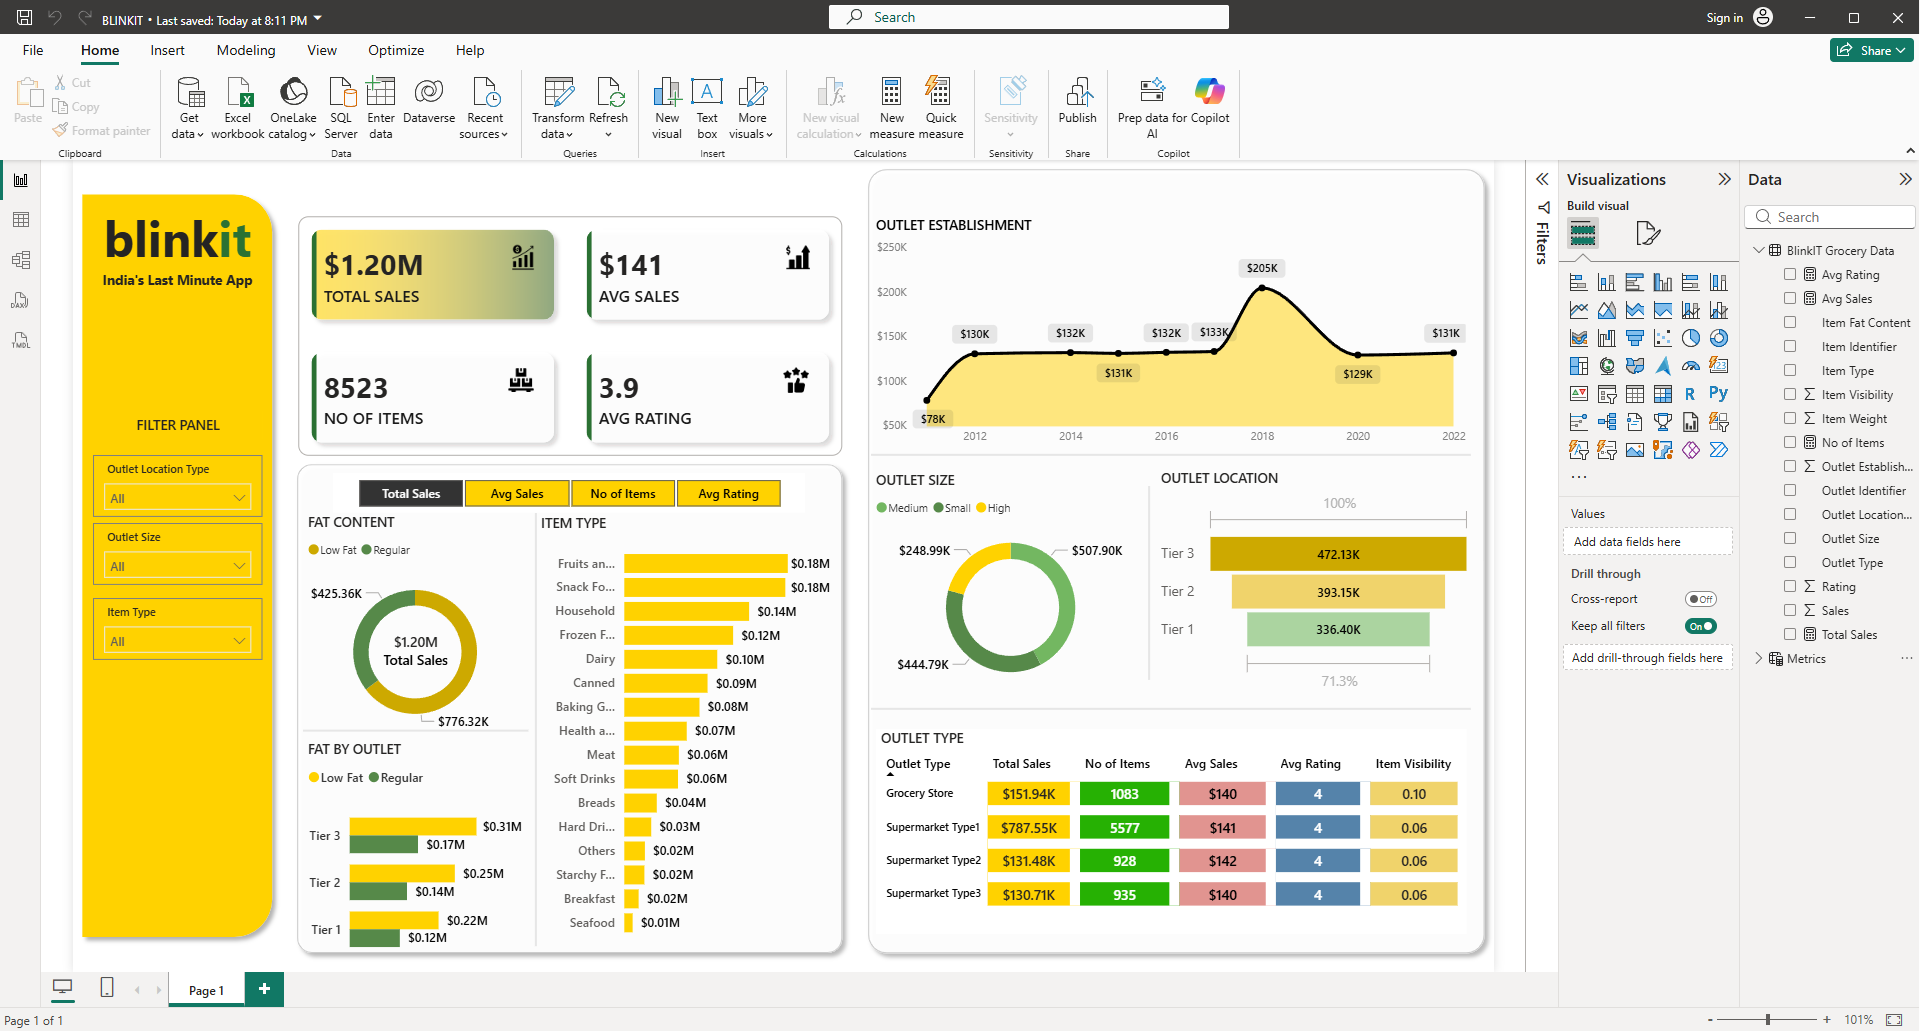

What the dashboard file says about the page in this screenshot:
{"tool":"powerbi","page":{"name":"Page 1","canvas":[1400,800],"ordinal":0},"visuals":[{"type":"shape","box":[0,24.5,205.3,750],"z":0},{"type":"textbox","box":[17,38.3,172.3,80.9],"z":1000},{"type":"textbox","box":[17,104.3,172.3,28.7],"z":2000},{"type":"cardVisual","fields":{"Data":["BlinkIT Grocery Data.Total Sales","BlinkIT Grocery Data.Avg Sales","BlinkIT Grocery Data.No of Items","BlinkIT Grocery Data.Avg Rating"]},"box":[205,38.3,570.2,270.2],"z":3000},{"type":"textbox","box":[205,308,570,466],"z":4000},{"type":"shape","box":[212.2,291.1,555.1,499.6],"z":5000},{"type":"donutChart","title":"FAT CONTENT","fields":{"Y":["BlinkIT Grocery Data.Total Sales"],"Category":["BlinkIT Grocery Data.Item Fat Content"]},"box":[227,347.8,220.8,229.4],"z":6000},{"type":"slicer","fields":{"Values":["Metrics.Metrics"]},"box":[256.6,308.4,465,39.5],"z":7000},{"type":"cardVisual","fields":{"Data":["BlinkIT Grocery Data.Total Sales"]},"box":[267.7,449,139.4,67.8],"z":8000},{"type":"clusteredBarChart","title":"FAT BY OUTLET","fields":{"Y":["BlinkIT Grocery Data.Total Sales"],"Category":["BlinkIT Grocery Data.Outlet Location Type"],"Series":["BlinkIT Grocery Data.Item Fat Content"]},"box":[227,571.1,220.8,229.4],"z":9000},{"type":"shape","box":[227,546.4,222,30.8],"z":10000},{"type":"shape","box":[449,347.8,13.6,426.8],"z":11000},{"type":"barChart","title":"ITEM TYPE","fields":{"Y":["BlinkIT Grocery Data.Total Sales"],"Category":["BlinkIT Grocery Data.Item Type"]},"box":[456.4,349.1,294.8,426.8],"z":12000},{"type":"shape","box":[774.6,0,625.4,790.7],"z":13000},{"type":"lineChart","title":"OUTLET ESTABLISHMENT","fields":{"Y":["BlinkIT Grocery Data.Total Sales"],"Category":["BlinkIT Grocery Data.Outlet Establishment Year"]},"box":[786.5,54.8,590.9,235.3],"z":14000},{"type":"shape","box":[786.5,275.1,590.9,31.2],"z":15000},{"type":"donutChart","title":"OUTLET SIZE","fields":{"Y":["BlinkIT Grocery Data.Total Sales"],"Category":["BlinkIT Grocery Data.Outlet Size"]},"box":[786.5,306.2,275.1,224.6],"z":16000},{"type":"shape","box":[1053,321.3,14,191.3],"z":17000},{"type":"funnel","title":"OUTLET LOCATION","fields":{"Y":["Sum(BlinkIT Grocery Data.Sales)"],"Category":["BlinkIT Grocery Data.Outlet Location Type"]},"box":[1066.9,304.1,315.9,224.6],"z":18000},{"type":"shape","box":[786.5,525.4,590.9,31.2],"z":19000},{"type":"pivotTable","title":"OUTLET TYPE","fields":{"Rows":["BlinkIT Grocery Data.Outlet Type"],"Values":["BlinkIT Grocery Data.Total Sales","BlinkIT Grocery Data.No of Items","BlinkIT Grocery Data.Avg Sales","BlinkIT Grocery Data.Avg Rating","Avg(BlinkIT Grocery Data.Item Visibility)"]},"box":[790.8,560.9,582.3,202],"z":20000},{"type":"slicer","fields":{"Values":["BlinkIT Grocery Data.Outlet Location Type"]},"box":[19.7,290.6,167.5,61.1],"z":21000},{"type":"slicer","fields":{"Values":["BlinkIT Grocery Data.Outlet Size"]},"box":[19.7,357.6,167.5,61.1],"z":22000},{"type":"slicer","fields":{"Values":["BlinkIT Grocery Data.Item Type"]},"box":[19.7,431.5,167.5,61.1],"z":23000},{"type":"textbox","box":[19.7,247.3,167.5,27.6],"z":23001}]}

Visuals, with their boxes on the page's 1400x800 design canvas (x1, y1, x2, y2). These are canvas units, not pixel positions in the 1920x1032 screenshot, which may show the page scaled, cropped or inside an application window:
shape: [x1=0, y1=24, x2=205, y2=774]
textbox: [x1=17, y1=38, x2=189, y2=119]
textbox: [x1=17, y1=104, x2=189, y2=133]
cardVisual - BlinkIT Grocery Data.Total Sales x BlinkIT Grocery Data.Avg Sales: [x1=205, y1=38, x2=775, y2=308]
textbox: [x1=205, y1=308, x2=775, y2=774]
shape: [x1=212, y1=291, x2=767, y2=791]
"FAT CONTENT" donutChart: [x1=227, y1=348, x2=448, y2=577]
slicer - Metrics.Metrics: [x1=257, y1=308, x2=722, y2=348]
cardVisual - BlinkIT Grocery Data.Total Sales: [x1=268, y1=449, x2=407, y2=517]
"FAT BY OUTLET" clusteredBarChart: [x1=227, y1=571, x2=448, y2=800]
shape: [x1=227, y1=546, x2=449, y2=577]
shape: [x1=449, y1=348, x2=463, y2=775]
"ITEM TYPE" barChart: [x1=456, y1=349, x2=751, y2=776]
shape: [x1=775, y1=0, x2=1400, y2=791]
"OUTLET ESTABLISHMENT" lineChart: [x1=786, y1=55, x2=1377, y2=290]
shape: [x1=786, y1=275, x2=1377, y2=306]
"OUTLET SIZE" donutChart: [x1=786, y1=306, x2=1062, y2=531]
shape: [x1=1053, y1=321, x2=1067, y2=513]
"OUTLET LOCATION" funnel: [x1=1067, y1=304, x2=1383, y2=529]
shape: [x1=786, y1=525, x2=1377, y2=557]
"OUTLET TYPE" pivotTable: [x1=791, y1=561, x2=1373, y2=763]
slicer - BlinkIT Grocery Data.Outlet Location Type: [x1=20, y1=291, x2=187, y2=352]
slicer - BlinkIT Grocery Data.Outlet Size: [x1=20, y1=358, x2=187, y2=419]
slicer - BlinkIT Grocery Data.Item Type: [x1=20, y1=432, x2=187, y2=493]
textbox: [x1=20, y1=247, x2=187, y2=275]
